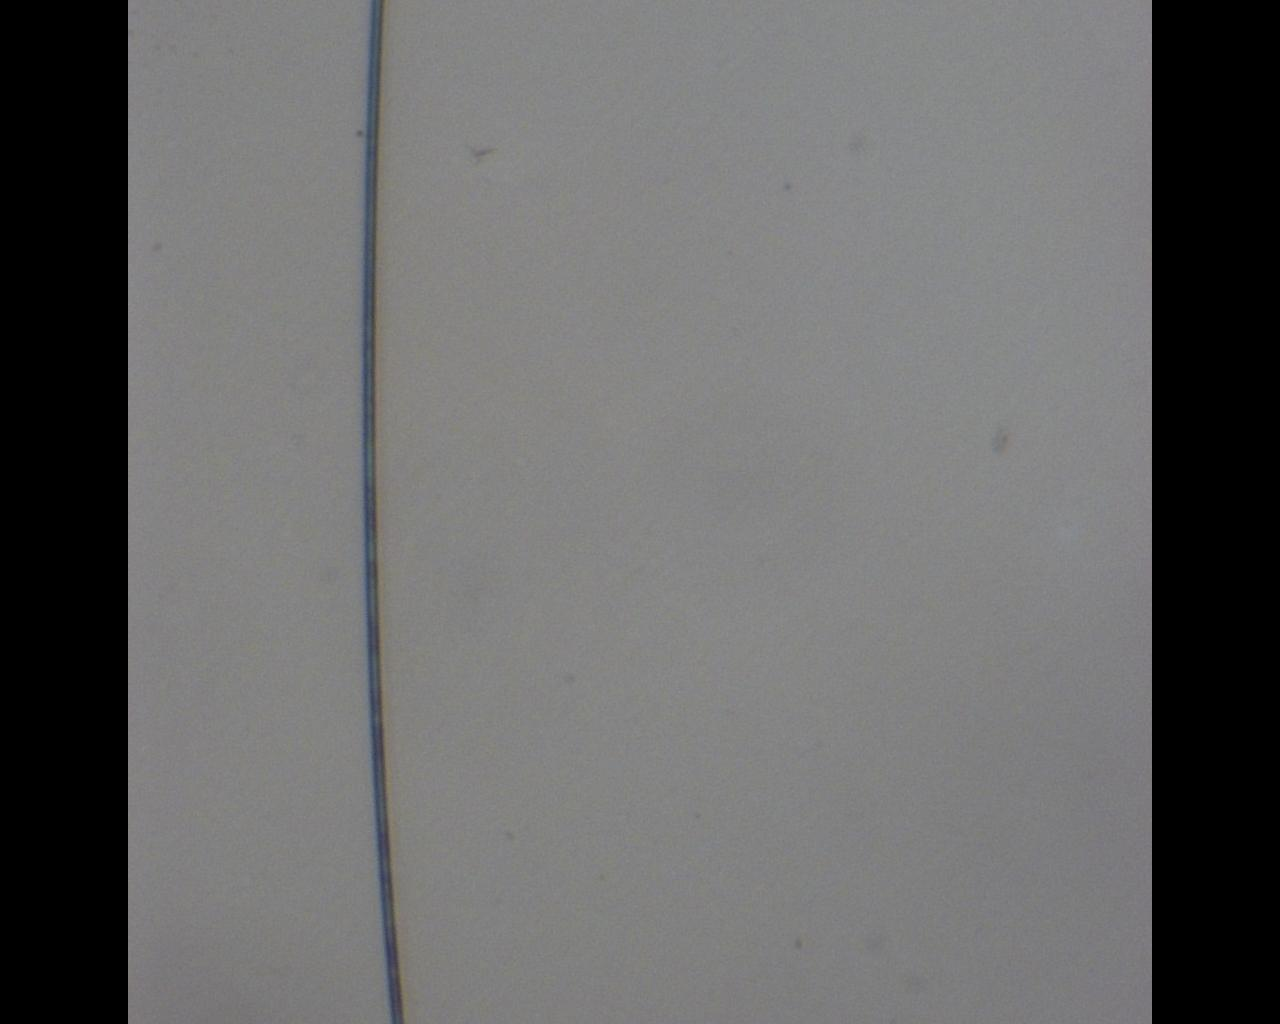fiber: (360, 0, 406, 1024)
